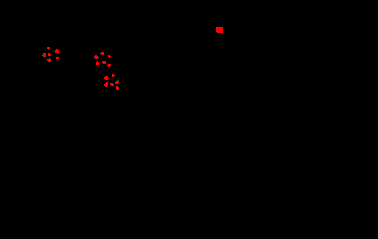Target: (216, 27, 223, 33), (94, 55, 99, 59), (104, 76, 109, 80), (104, 82, 108, 87), (55, 49, 59, 53), (42, 53, 46, 57), (47, 58, 51, 62), (115, 80, 119, 84), (100, 52, 104, 55), (96, 61, 99, 65), (102, 61, 106, 64), (107, 64, 111, 67), (110, 83, 114, 86), (116, 86, 119, 90), (47, 47, 50, 50), (48, 53, 51, 56), (108, 55, 111, 58), (112, 74, 115, 77), (56, 57, 59, 59)
